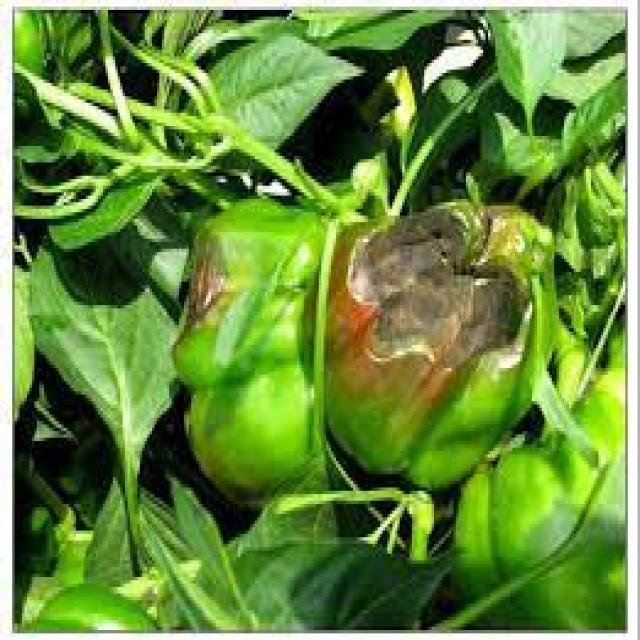Wet Waste: (325, 205, 550, 489)
